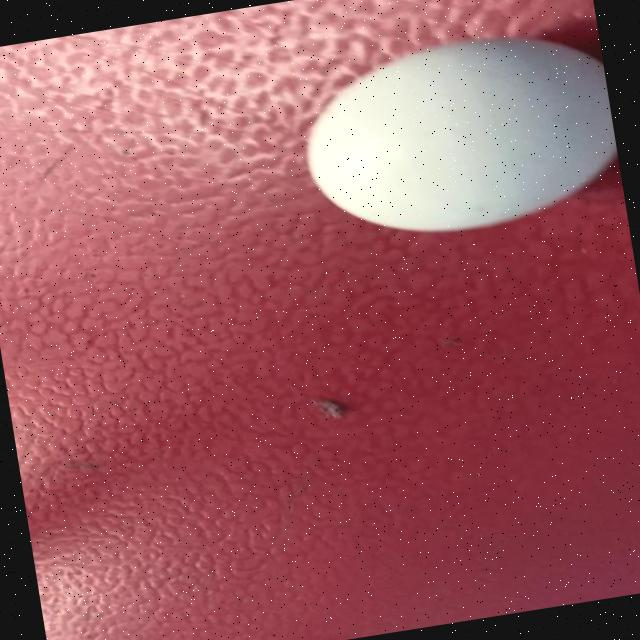ping-pong-ball: (287, 17, 626, 258)
